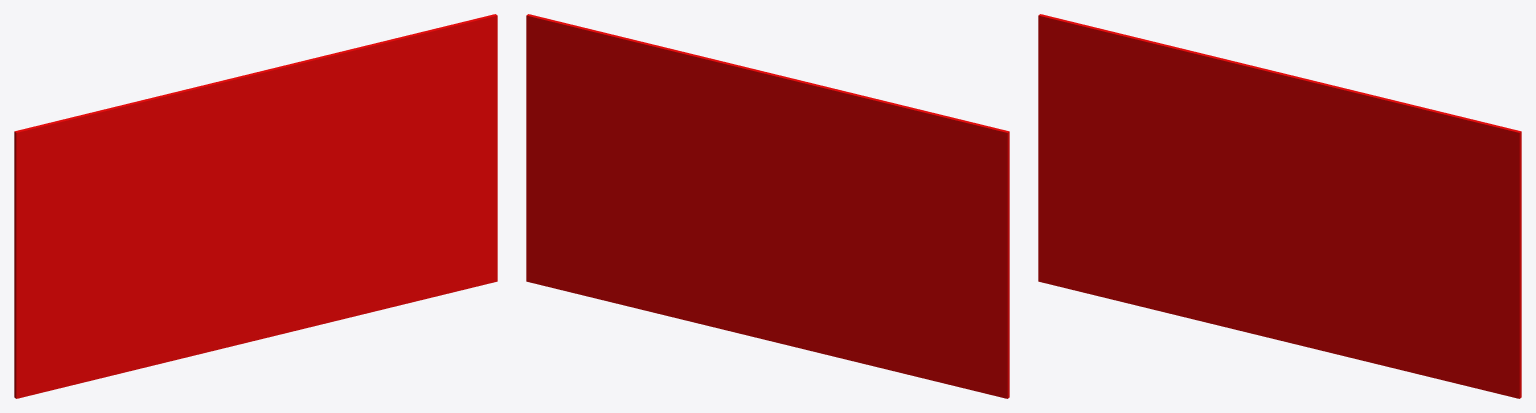
Rendered from Flag.FBX.
3 views of the same model, side by side, from view 1: azimuth 30°, elevation 25°; view 2: azimuth 150°, elevation 25°; view 3: azimuth 330°, elevation 25° (orthographic).
Parts seen in each view (by area): view 1: Box001; view 2: Box001; view 3: Box001.
Boxes of the visible parts, x1=… form: Box001: x1=14, y1=14, x2=497, y2=398; Box001: x1=526, y1=14, x2=1009, y2=398; Box001: x1=1038, y1=14, x2=1521, y2=398.
Size of the model in its own units: 114 by 60.13 by 0.8662.
